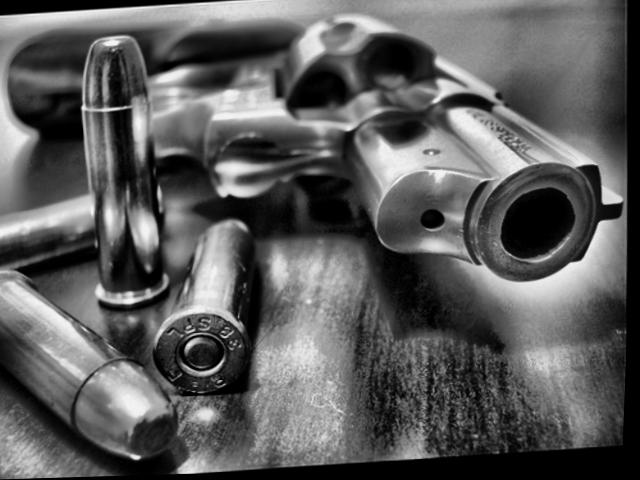pistol: (0, 0, 623, 324)
